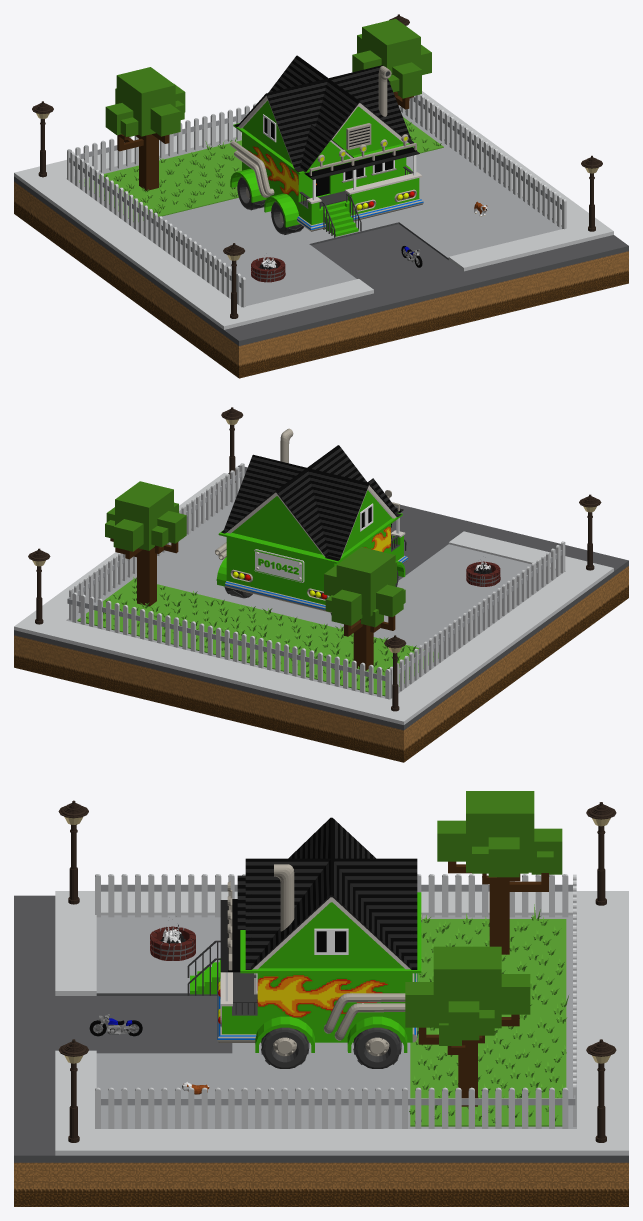
3 views of the same model, one above another, from view 1: azimuth 30°, elevation 25°; view 2: azimuth 150°, elevation 25°; view 3: azimuth 270°, elevation 25° (orthographic). The views are drawn at different scales.
Parts seen in each view (by area): view 1: Cube.004, Cube.1474, OBJRANDOM_CAMPFIRE; view 2: Cube.004, Cube.1474, OBJRANDOM_CAMPFIRE; view 3: Cube.004, Cube.1474, OBJRANDOM_CAMPFIRE, VEHICLES_CHOPPER.
Boxes of the visible parts, left/top/right/bottom form: Cube.004: left=14, top=14, right=628, bottom=378; Cube.1474: left=230, top=55, right=423, bottom=237; OBJRANDOM_CAMPFIRE: left=251, top=255, right=285, bottom=282; Cube.004: left=14, top=407, right=628, bottom=762; Cube.1474: left=215, top=428, right=408, bottom=615; OBJRANDOM_CAMPFIRE: left=466, top=561, right=500, bottom=586; Cube.004: left=14, top=791, right=628, bottom=1206; Cube.1474: left=187, top=817, right=422, bottom=1068; OBJRANDOM_CAMPFIRE: left=150, top=924, right=195, bottom=960; VEHICLES_CHOPPER: left=89, top=1014, right=142, bottom=1036.
Bounding box in the file's own units: 4000 × 1846 × 4000.
37 materials, 4 textured.
